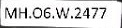character: (55, 6, 70, 19), (3, 6, 17, 19), (31, 6, 42, 19), (18, 6, 27, 20), (43, 6, 51, 19), (98, 6, 106, 19), (73, 7, 81, 19), (82, 7, 90, 19), (90, 6, 98, 18)
